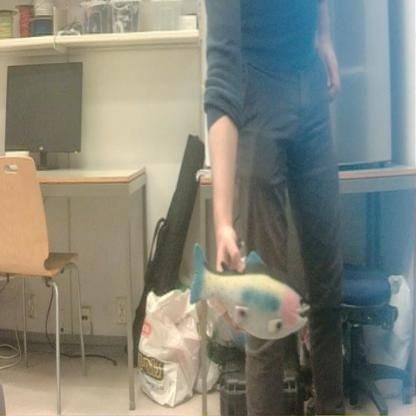rubberfish: (185, 239, 312, 344)
